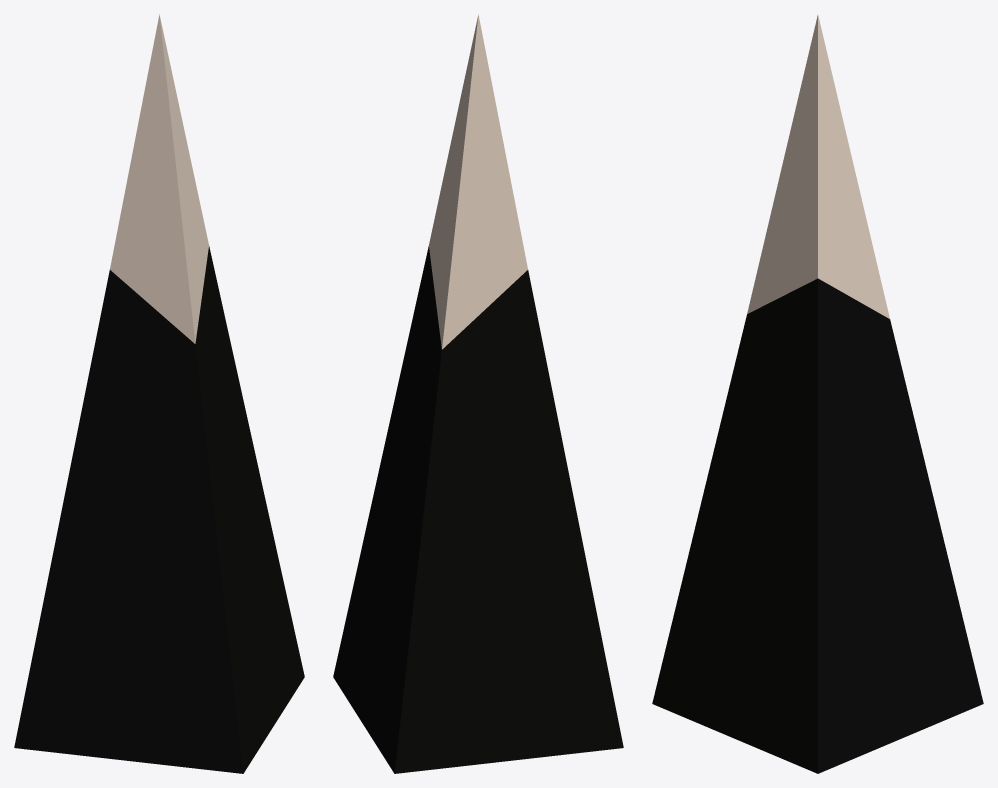
The model's file is mountain_3.FBX.
The picture shows the model from 3 angles, left to right: view 1: azimuth 30°, elevation 25°; view 2: azimuth 150°, elevation 25°; view 3: azimuth 270°, elevation 25°; orthographic projection.
Parts seen in each view (by area): view 1: mountain_3; view 2: mountain_3; view 3: mountain_3.
Boxes of the visible parts, <box> form: mountain_3: <box>14,14,304,773</box>; mountain_3: <box>333,14,623,773</box>; mountain_3: <box>652,15,983,773</box>.
Size of the model in its own units: 191 by 438 by 191.
